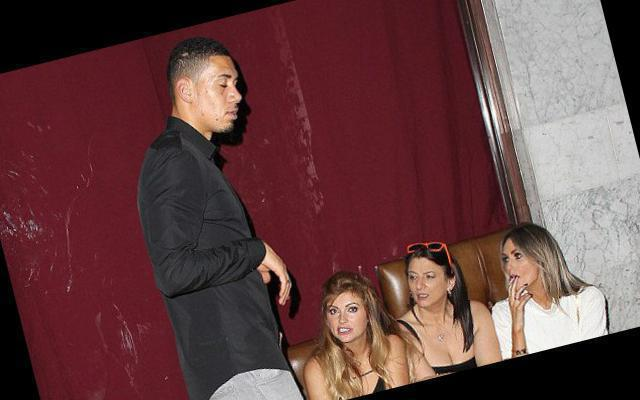Drunk: (199, 52, 244, 134), (323, 286, 369, 340), (403, 263, 448, 308), (499, 239, 538, 288)
